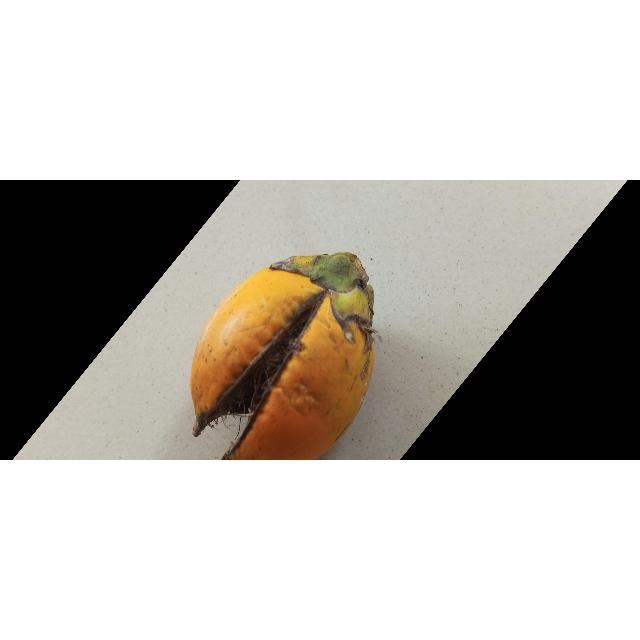damaged: (190, 253, 376, 461)
